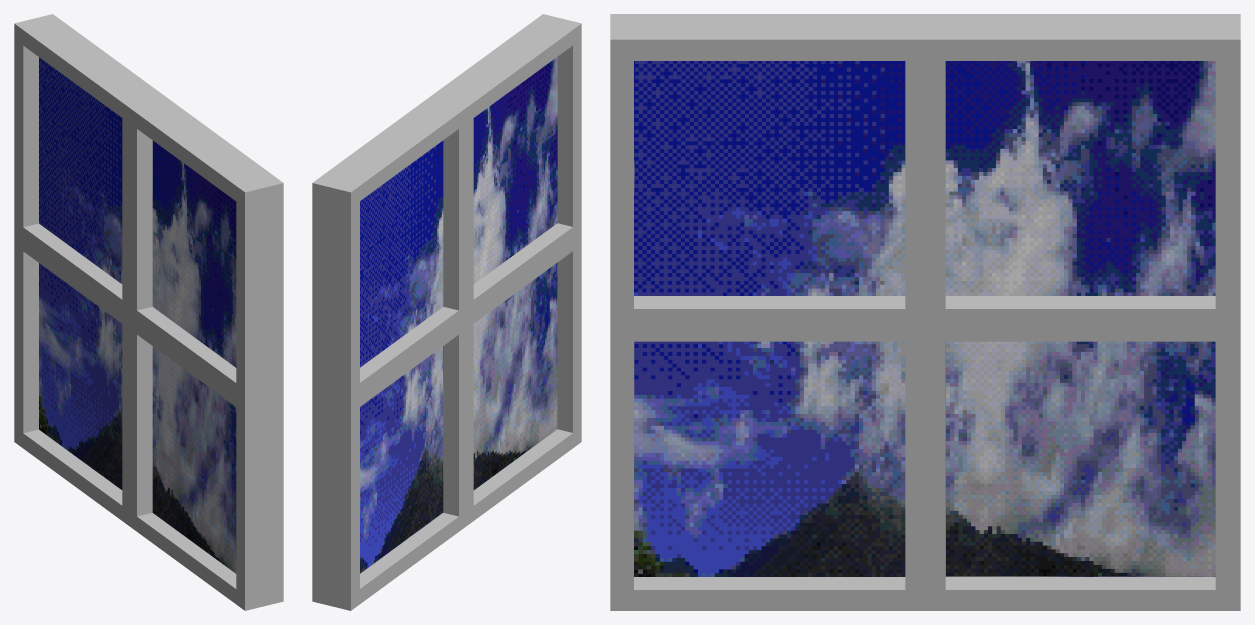
File: EndWindow.fbx
The picture shows the model from 3 angles, left to right: view 1: azimuth 30°, elevation 25°; view 2: azimuth 150°, elevation 25°; view 3: azimuth 270°, elevation 25°; orthographic projection. The views are drawn at different scales.
Visible parts, largest first — view 1: Window; view 2: Window; view 3: Window.
Part boxes in pixels (x1,y1,x2,y2): Window: [14, 14, 283, 610]; Window: [312, 14, 581, 610]; Window: [610, 14, 1240, 610].
Bounding box in the file's own units: 62.49 × 646 × 646.
